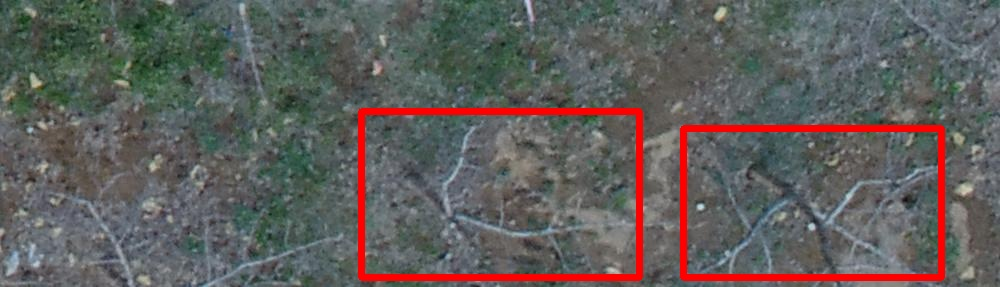apple: (361, 111, 639, 277), (683, 128, 941, 277)
